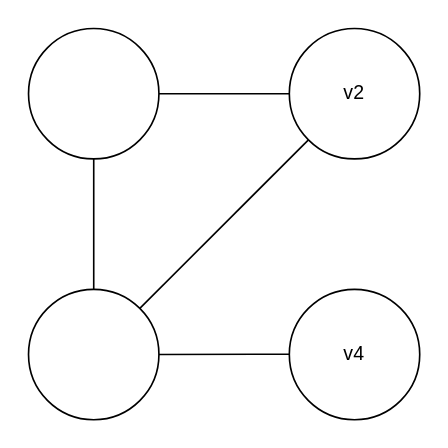
Image size: 448x448. Some labels were removed from this diagram. Each missing label, with the centre of its shape:
v1: [93,93]
v3: [93,354]
